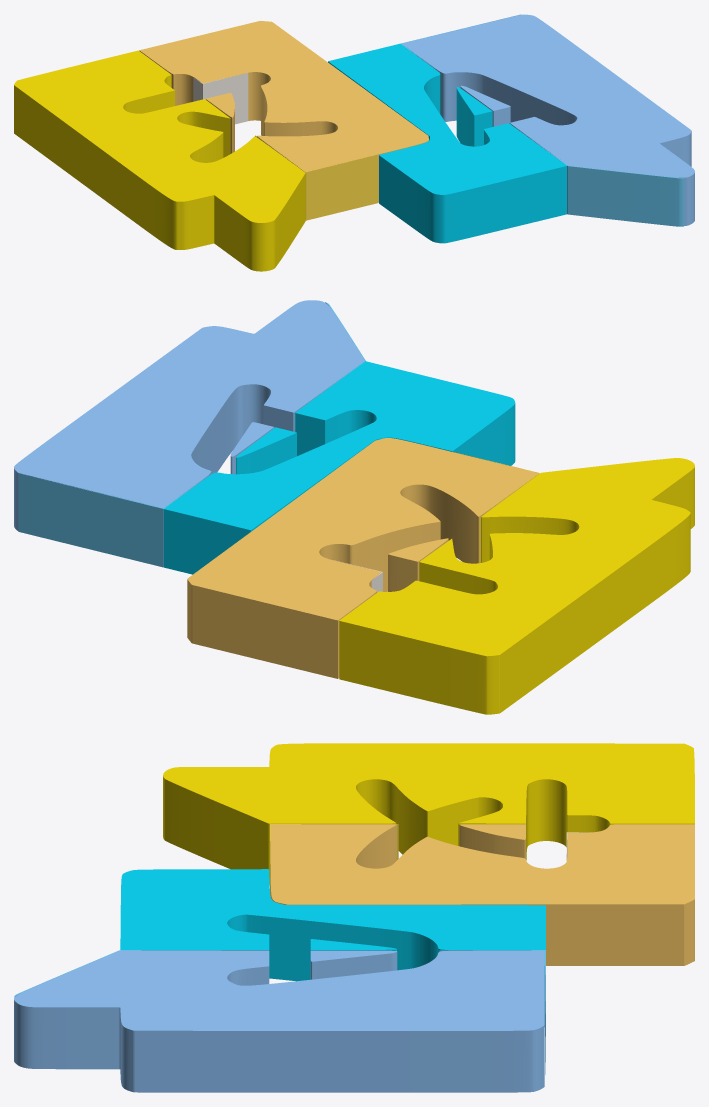
Rendered from translate.glb.
The picture shows the model from 3 angles, top to bottom: view 1: azimuth 30°, elevation 25°; view 2: azimuth 150°, elevation 25°; view 3: azimuth 270°, elevation 25°; orthographic projection. The views are drawn at different scales.
Visible parts, largest first — view 1: imagetostl_mesh1, imagetostl_mesh5, imagetostl_mesh7, imagetostl_mesh4, imagetostl_mesh11, imagetostl_mesh10, imagetostl_mesh16, imagetostl_mesh0, imagetostl_mesh18, imagetostl_mesh6, imagetostl_mesh20, imagetostl_mesh12 (+1 smaller); view 2: imagetostl_mesh1, imagetostl_mesh5, imagetostl_mesh4, imagetostl_mesh7, imagetostl_mesh11, imagetostl_mesh6, imagetostl_mesh14, imagetostl_mesh10, imagetostl_mesh0, imagetostl_mesh12, imagetostl_mesh8; view 3: imagetostl_mesh0, imagetostl_mesh1, imagetostl_mesh5, imagetostl_mesh7, imagetostl_mesh11, imagetostl_mesh4, imagetostl_mesh6, imagetostl_mesh10, imagetostl_mesh2, imagetostl_mesh8, imagetostl_mesh9, imagetostl_mesh3 (+1 smaller).
Boxes of the visible parts, x1,y1,x2,y2 form: imagetostl_mesh1: [402, 14, 694, 177]; imagetostl_mesh5: [14, 50, 305, 222]; imagetostl_mesh7: [139, 20, 428, 171]; imagetostl_mesh4: [14, 75, 305, 271]; imagetostl_mesh11: [328, 43, 566, 194]; imagetostl_mesh10: [328, 61, 566, 243]; imagetostl_mesh16: [509, 123, 684, 226]; imagetostl_mesh0: [417, 55, 694, 225]; imagetostl_mesh18: [255, 135, 377, 220]; imagetostl_mesh6: [139, 50, 428, 202]; imagetostl_mesh20: [193, 73, 248, 124]; imagetostl_mesh12: [456, 88, 492, 146]; imagetostl_mesh1: [14, 300, 364, 507]; imagetostl_mesh5: [339, 458, 694, 656]; imagetostl_mesh4: [339, 467, 694, 714]; imagetostl_mesh7: [187, 438, 538, 620]; imagetostl_mesh11: [164, 361, 515, 529]; imagetostl_mesh6: [187, 484, 522, 678]; imagetostl_mesh14: [18, 472, 213, 567]; imagetostl_mesh10: [164, 403, 515, 574]; imagetostl_mesh0: [14, 373, 347, 531]; imagetostl_mesh12: [236, 433, 296, 474]; imagetostl_mesh8: [388, 539, 448, 591]; imagetostl_mesh0: [14, 966, 544, 1092]; imagetostl_mesh1: [14, 950, 544, 1030]; imagetostl_mesh5: [163, 743, 694, 823]; imagetostl_mesh7: [270, 824, 694, 904]; imagetostl_mesh11: [120, 869, 545, 949]; imagetostl_mesh4: [163, 776, 694, 884]; imagetostl_mesh6: [270, 825, 694, 965]; imagetostl_mesh10: [141, 914, 531, 981]; imagetostl_mesh2: [310, 952, 397, 979]; imagetostl_mesh8: [459, 825, 525, 858]; imagetostl_mesh9: [460, 824, 525, 839]; imagetostl_mesh3: [310, 950, 396, 961].
Bounding box in the file's own units: 99.96 × 10 × 100.
